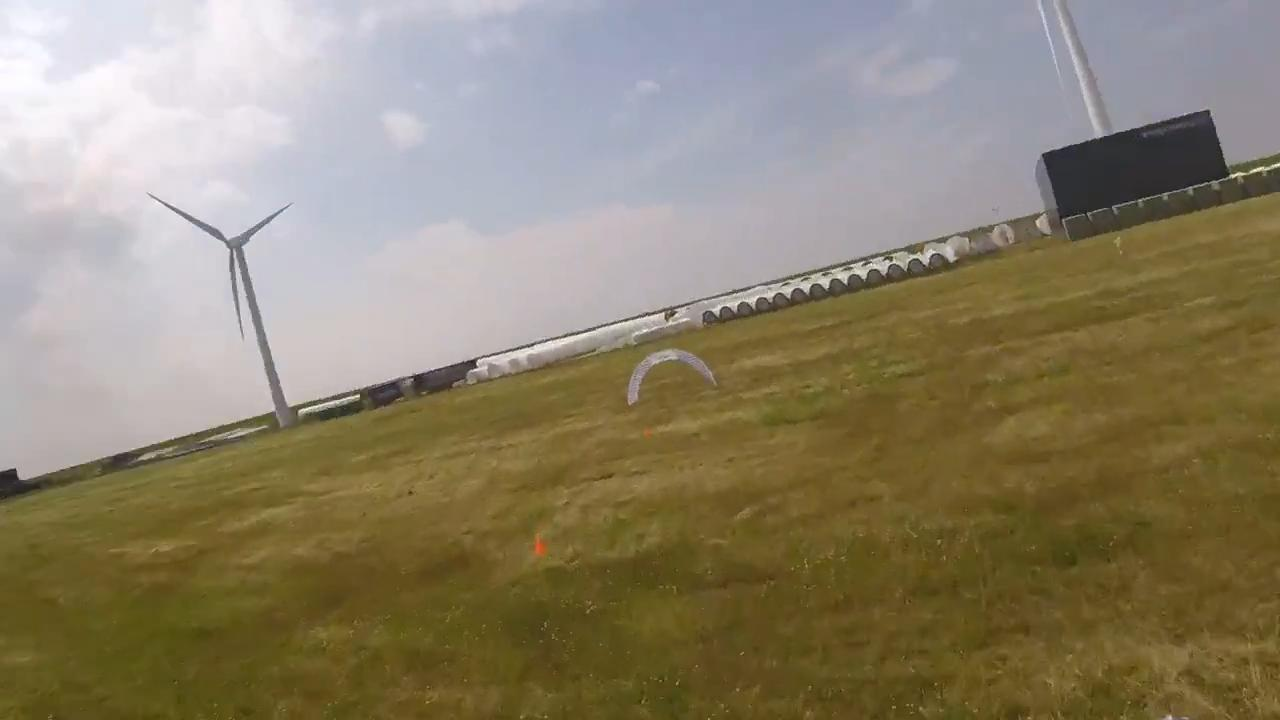gate: (625, 347, 717, 405)
